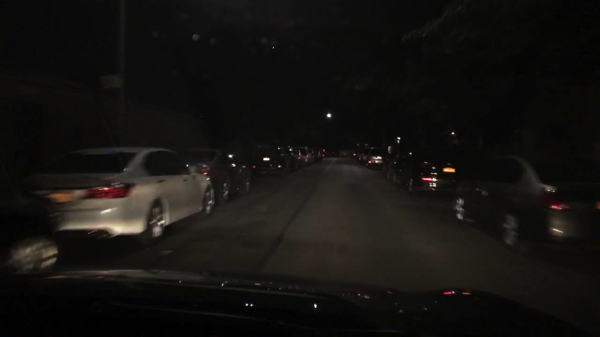car: (29, 146, 216, 246), (452, 152, 599, 254), (0, 178, 64, 275), (179, 146, 253, 203), (395, 150, 459, 196), (249, 145, 290, 179), (385, 148, 411, 180), (364, 146, 389, 169), (284, 144, 298, 171), (301, 148, 315, 163), (294, 151, 305, 167), (357, 147, 368, 162), (315, 150, 324, 160), (319, 148, 325, 157)
traffic sign: (101, 74, 123, 88)
